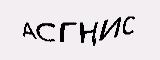А: (20, 22, 36, 41)
Г: (59, 22, 76, 44)
И: (98, 15, 121, 41)
С: (35, 22, 57, 42), (121, 15, 136, 36)
Ң: (80, 21, 96, 47)
